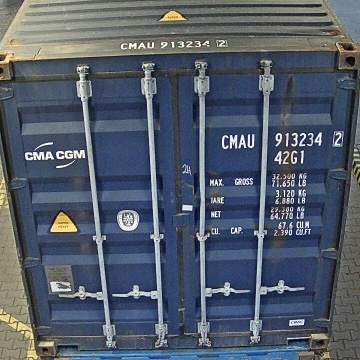serial_id: (222, 131, 342, 148)
